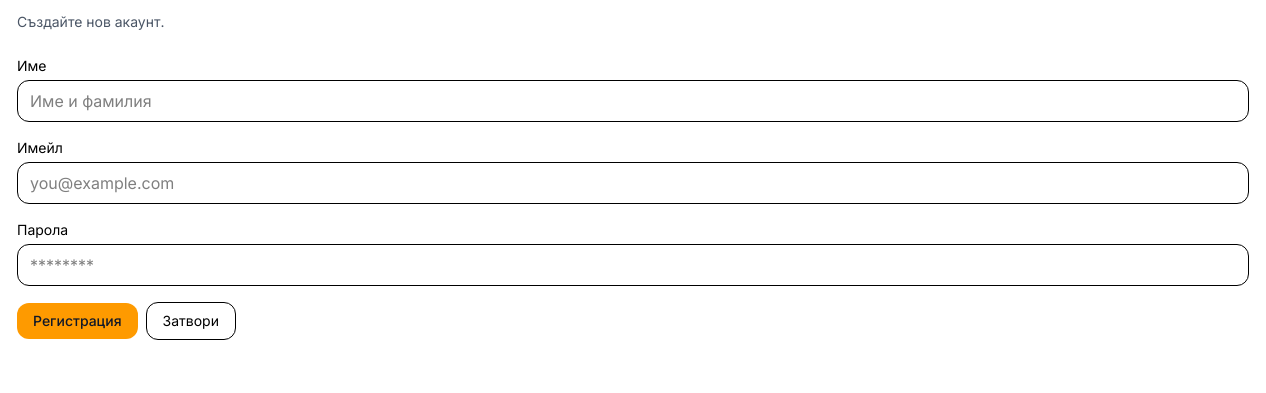
Test case: AuthForm › Register Mode › should show error when email is missing
Type "Test User" into the field labelled "Име" at [633, 101], box left=17, top=80, right=1249, bottom=122
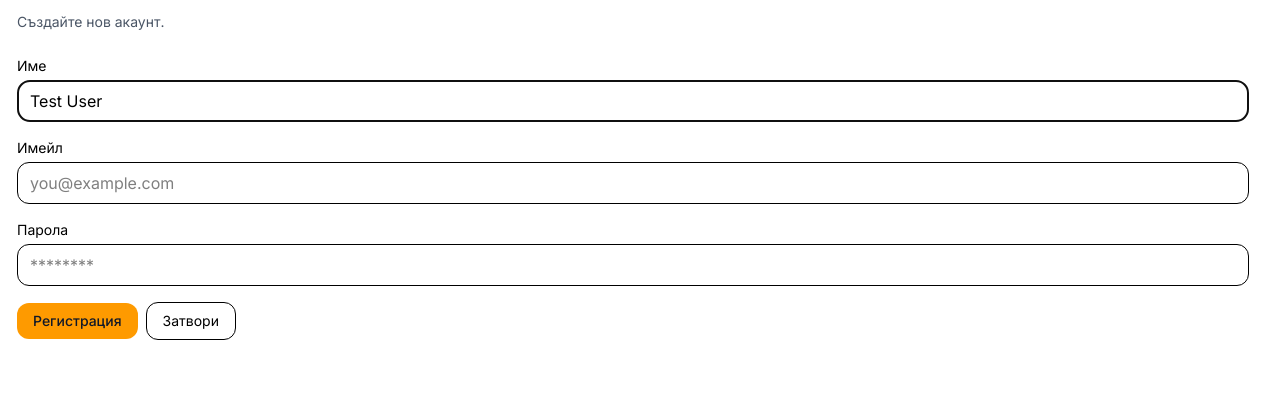
Type "password123" into the password field labelled "Парола" at [633, 265], box left=17, top=244, right=1249, bottom=286
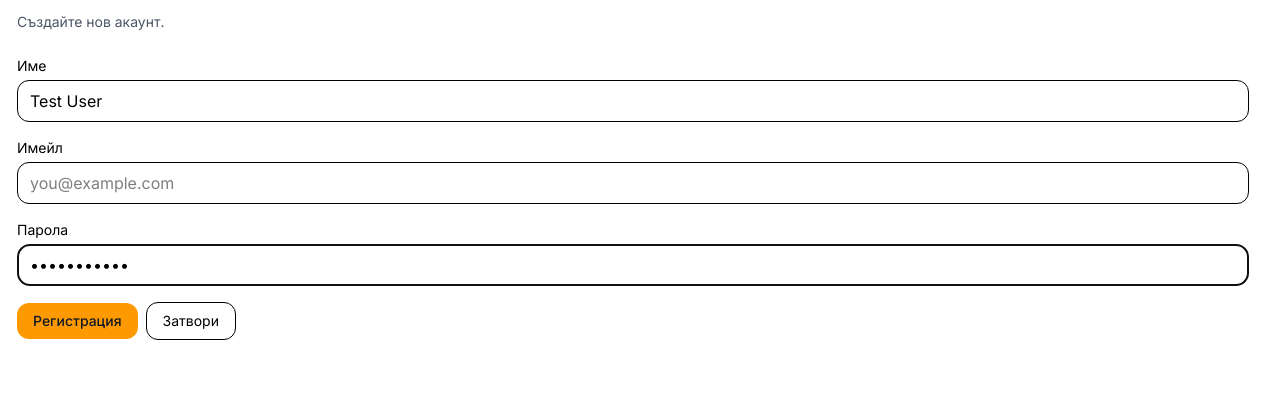
Click the button "Регистрация" at [77, 321], box left=17, top=303, right=138, bottom=339
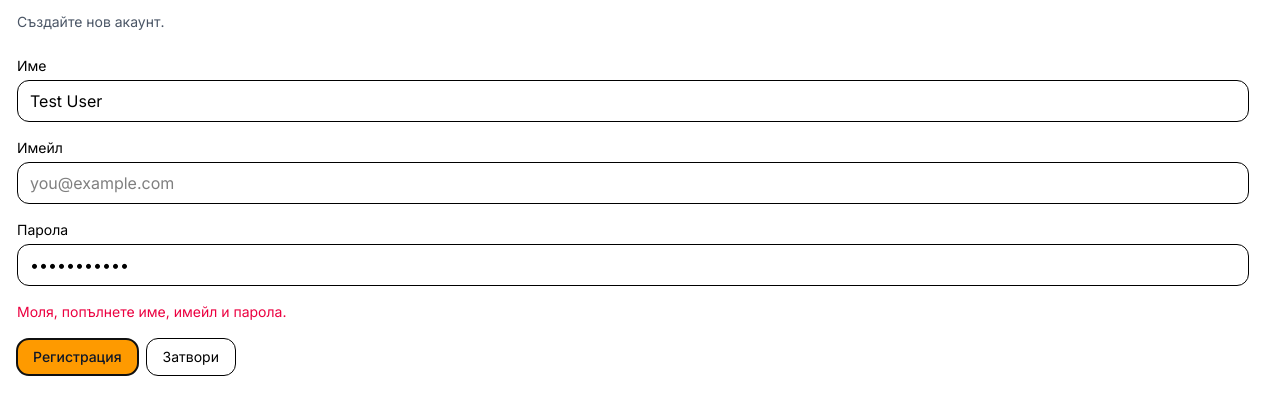
Expected: the text "Моля, попълнете име, имейл и парола." is shown, left=17, top=303, right=286, bottom=320
